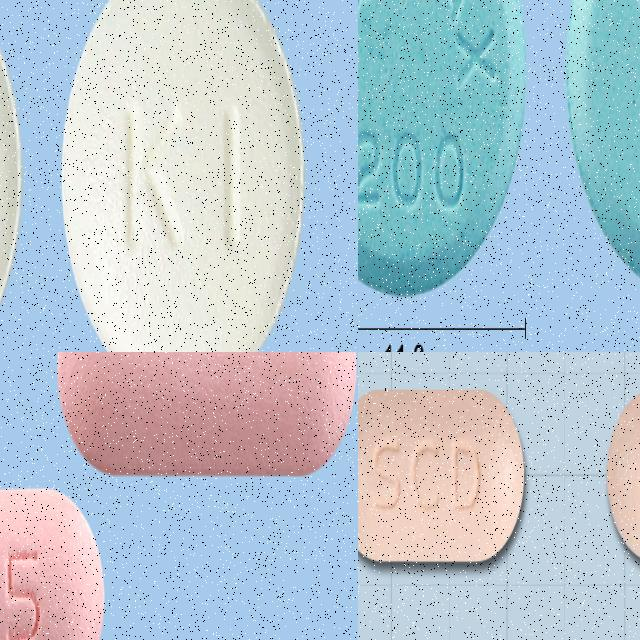Levogun - 500mg: (60, 0, 305, 352)
Levostar: (358, 388, 525, 562)
Vacrax Tab: (58, 352, 358, 476), (0, 488, 106, 640)
Valcyte Tab: (358, 0, 528, 294), (564, 0, 640, 294)
